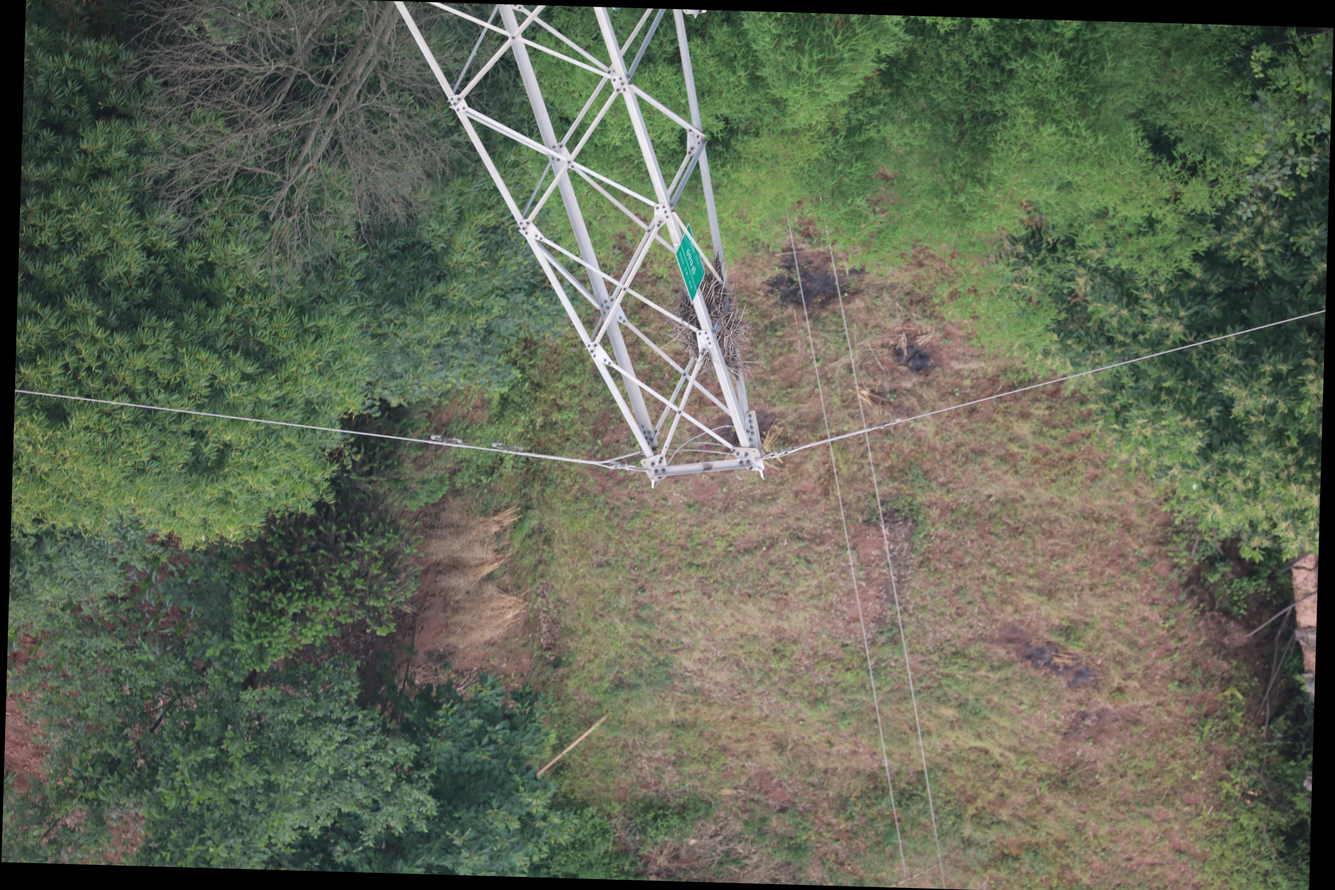damper: (427, 432, 464, 448), (489, 440, 525, 456)
